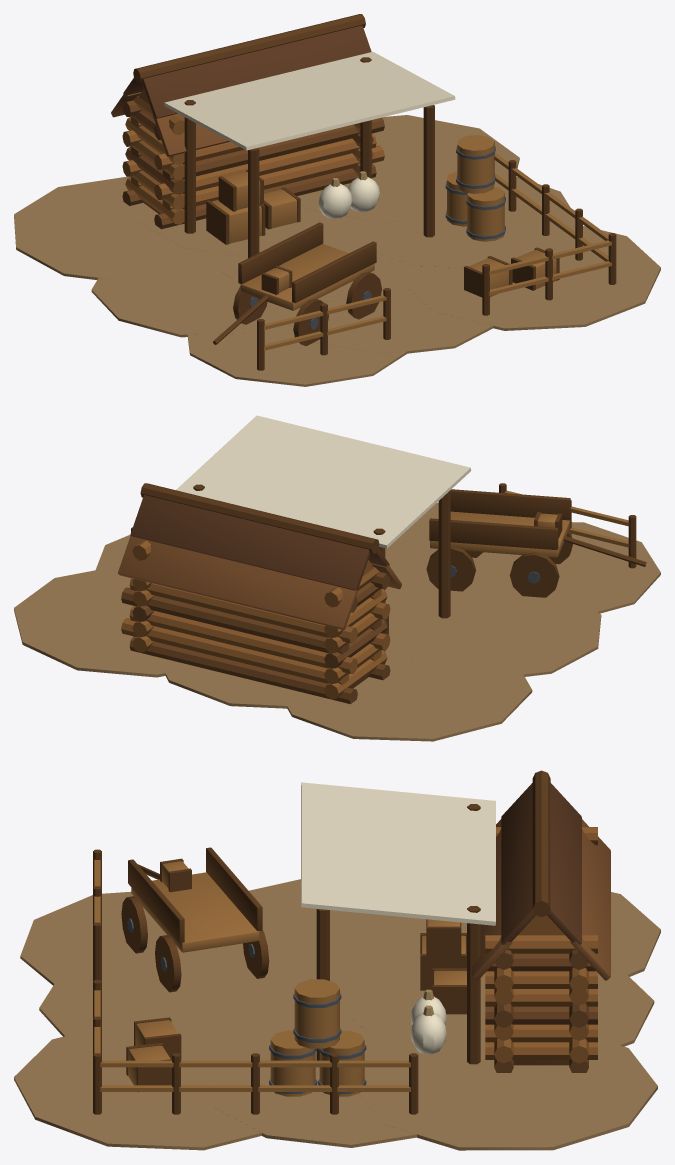
Rendered from magazyn_poz05.glb.
The picture shows the model from 3 angles, top to bottom: view 1: azimuth 30°, elevation 25°; view 2: azimuth 150°, elevation 25°; view 3: azimuth 270°, elevation 25°; orthographic projection. The views are drawn at different scales.
Parts seen in each view (by area): view 1: magazyn_poz05; view 2: magazyn_poz05; view 3: magazyn_poz05.
Boxes of the visible parts, <box> form: magazyn_poz05: <box>14,14,660,386</box>; magazyn_poz05: <box>14,415,660,741</box>; magazyn_poz05: <box>14,770,660,1150</box>.
Bounding box in the file's own units: 8.55 × 2.64 × 8.6.
